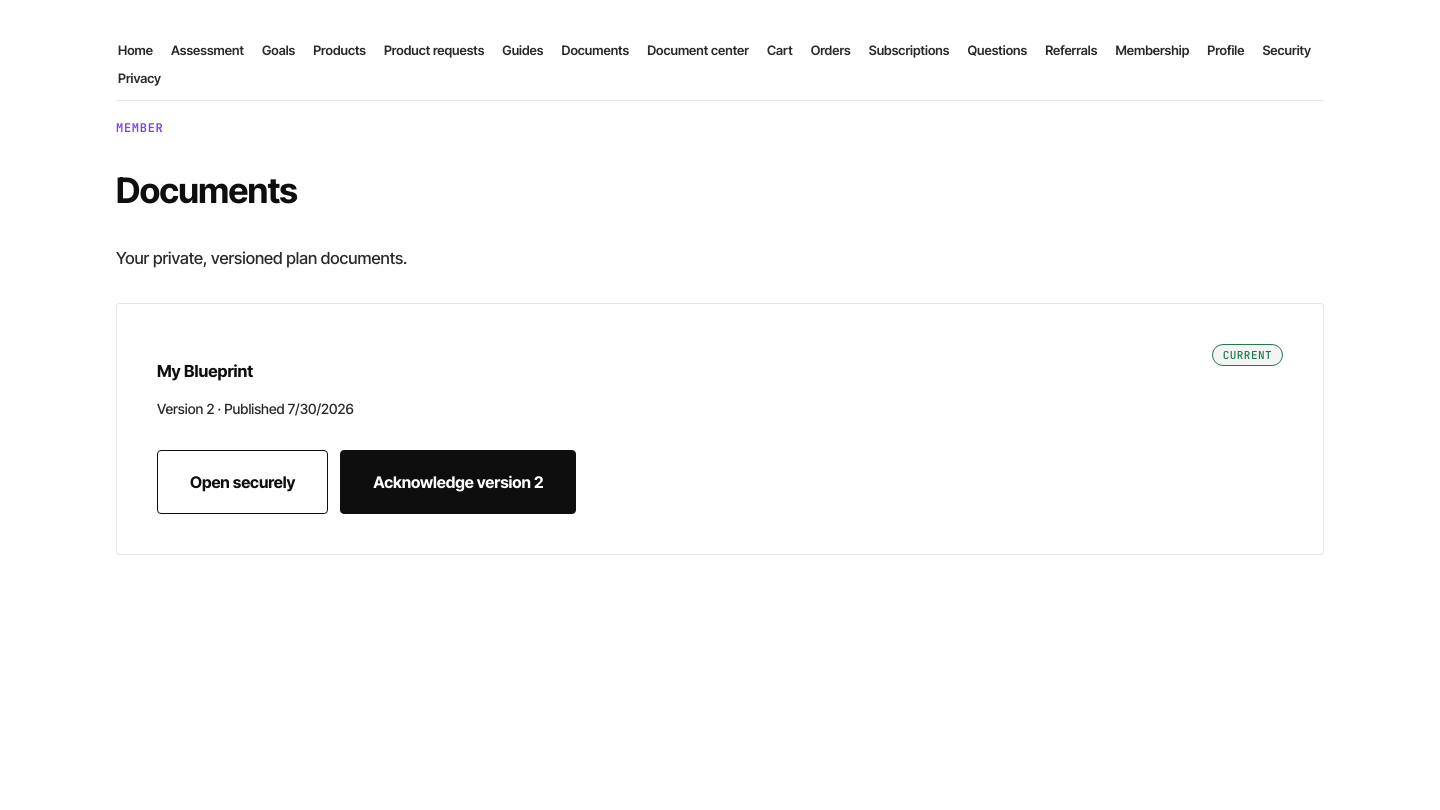
Documents › reports access failure as an alert without exposing hostile server text
Click the button "Open securely" at [243, 482], box [157,450,328,514]
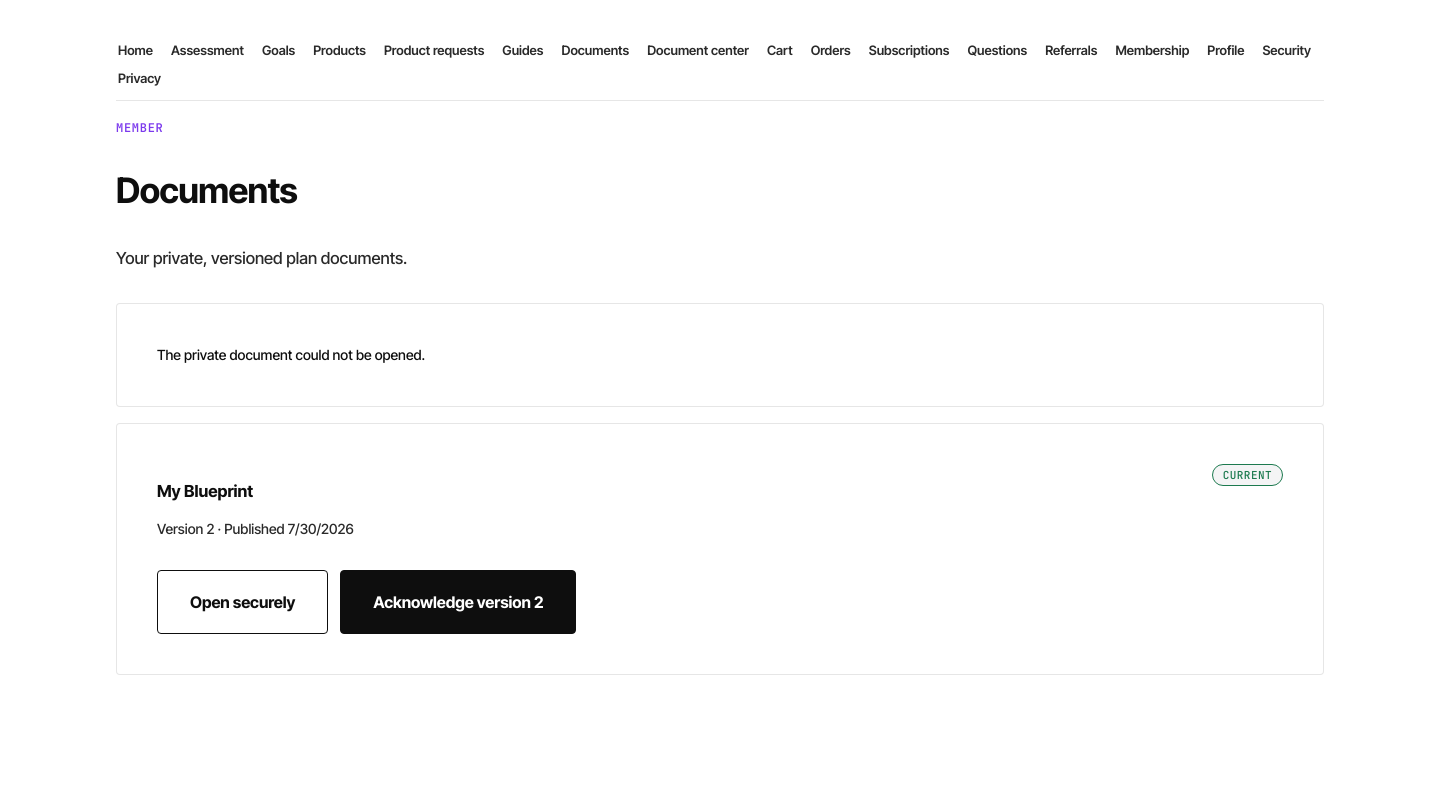
Result: the message "The private document could not be opened." is shown at [116,303,1324,407]
